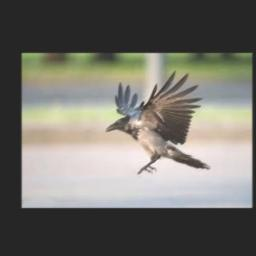Crow: (106, 70, 212, 174)
